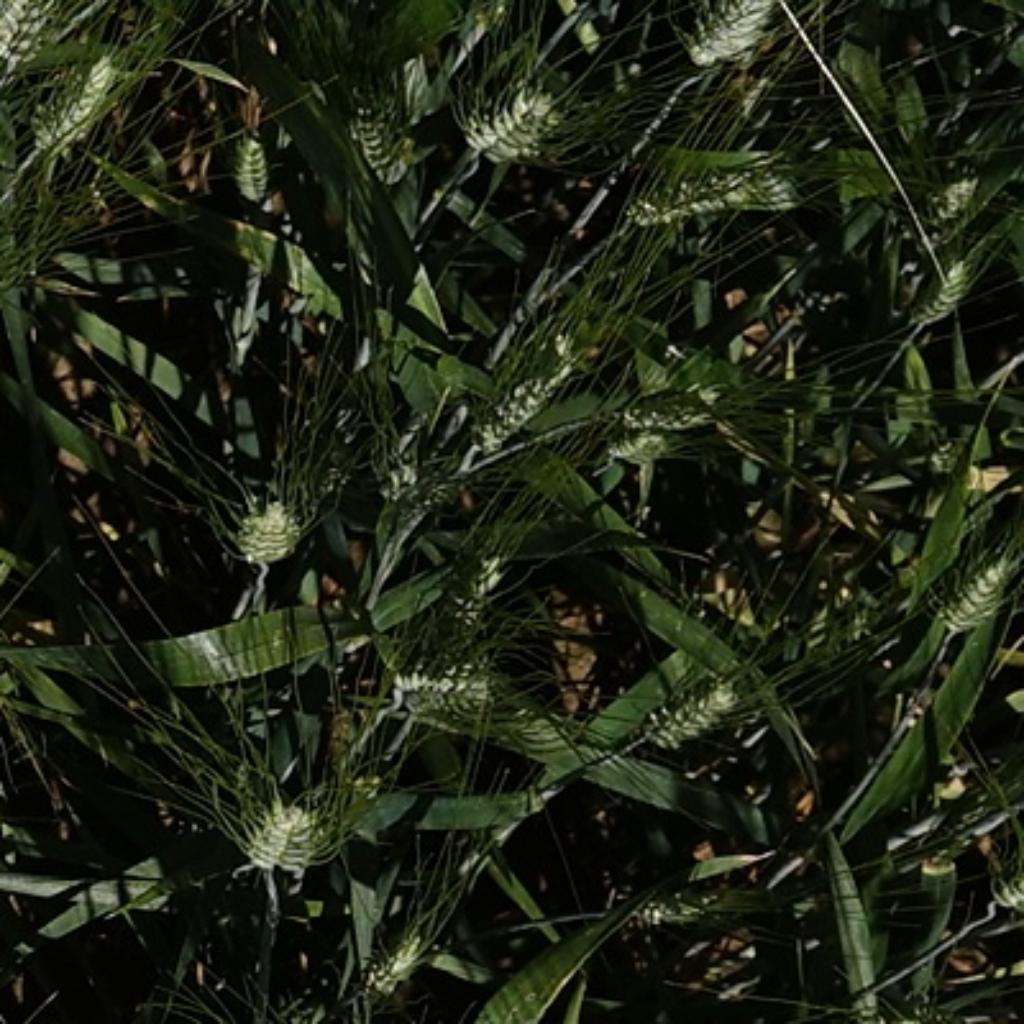0-0: (622, 153, 802, 241), (622, 841, 780, 935), (466, 349, 581, 478), (386, 642, 527, 732), (340, 74, 426, 192), (925, 529, 1024, 629), (452, 80, 565, 167), (639, 669, 757, 752), (427, 541, 524, 636), (604, 368, 737, 437), (358, 914, 441, 1012), (44, 51, 113, 162), (238, 791, 329, 872), (684, 2, 787, 71), (358, 430, 445, 499), (888, 258, 977, 325), (907, 172, 995, 238), (0, 2, 84, 71), (606, 417, 691, 483), (222, 122, 281, 212), (234, 501, 306, 573), (0, 501, 2, 645)
